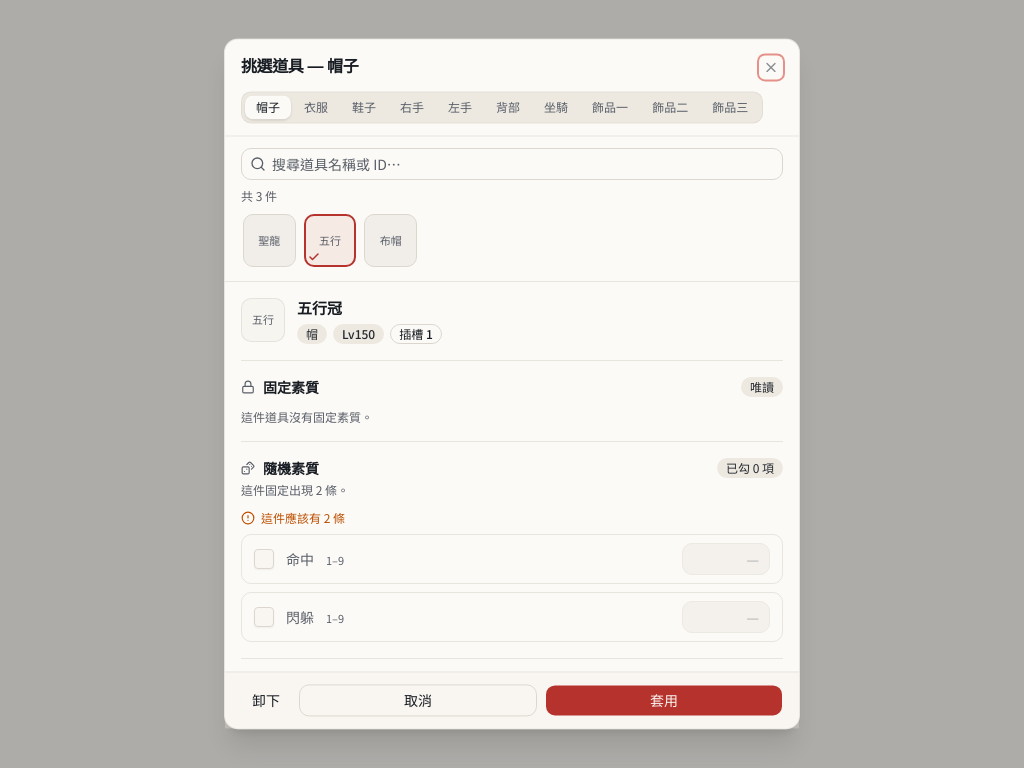
Test: ItemPicker 裝備編輯 › 固定條數：少勾時溫和提示；槽數上下限相同不多說明
Expected: the text "這件固定出現 2 條。" is shown, [241,482,349,499]
Expected: the message reads "這件應該有 2 條", [261,510,345,527]
Click the checkbox named "命中" next to "命中". click: (264, 560)
box: [254,550,274,570]
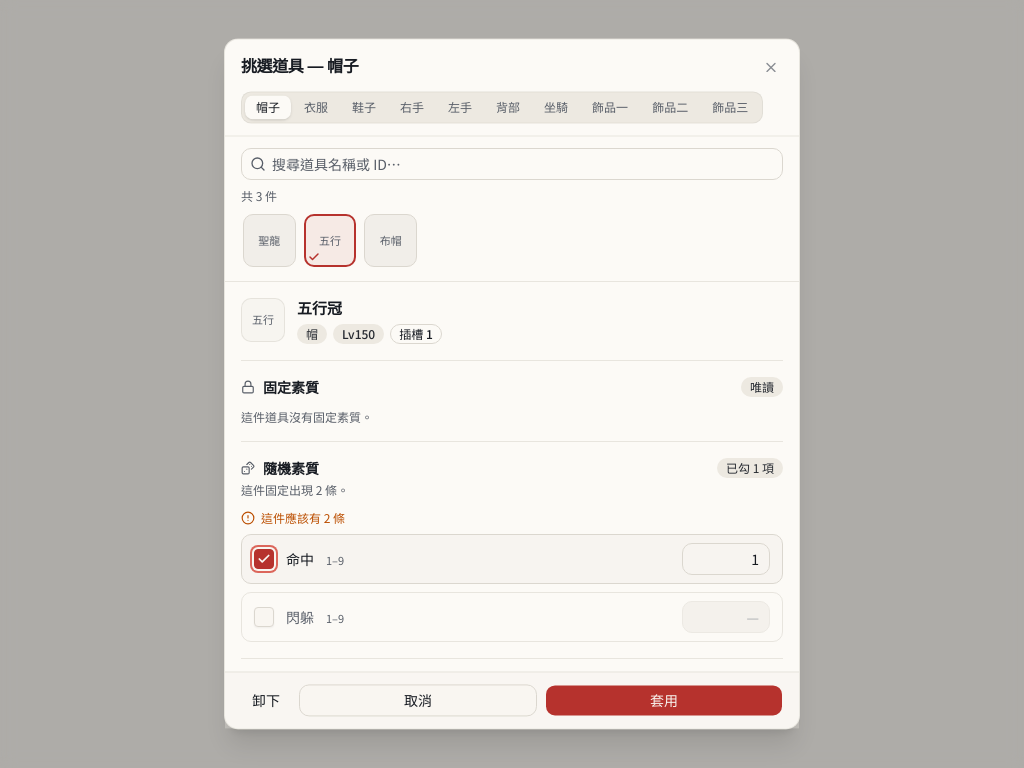
Click the checkbox named "閃躲" next to "閃躲". click: (264, 618)
box: [254,608,274,628]
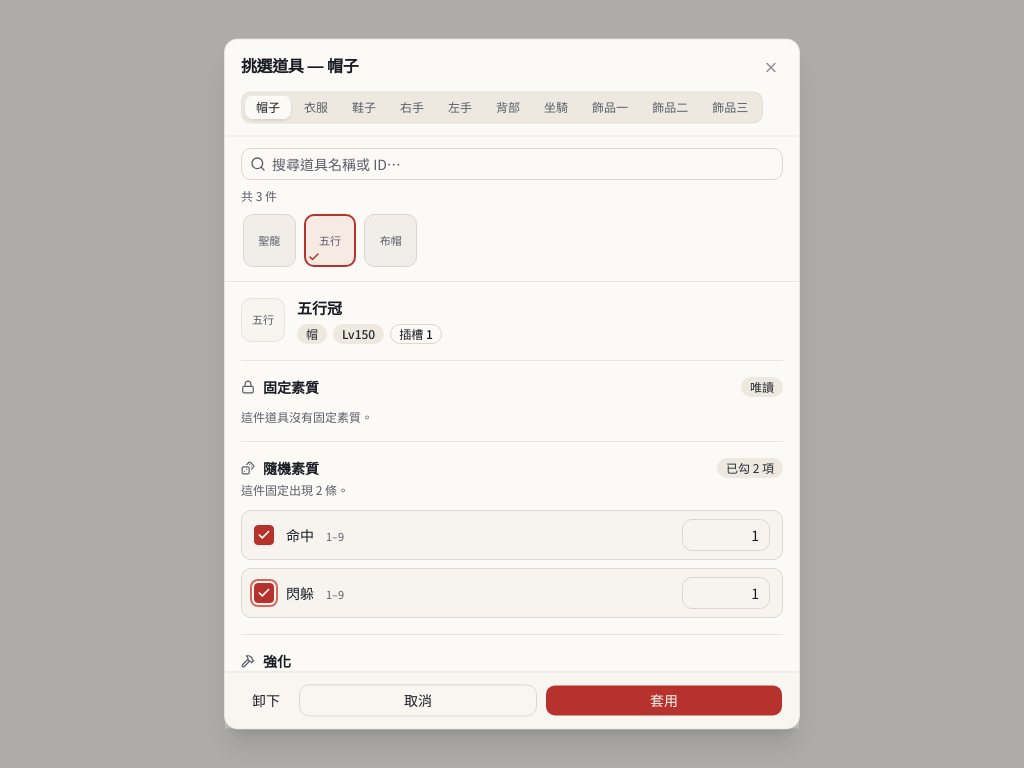
Expected: the button "套用" is enabled, [545,685,783,717]
Expected: the message "這件應該有 2 條" is gone
